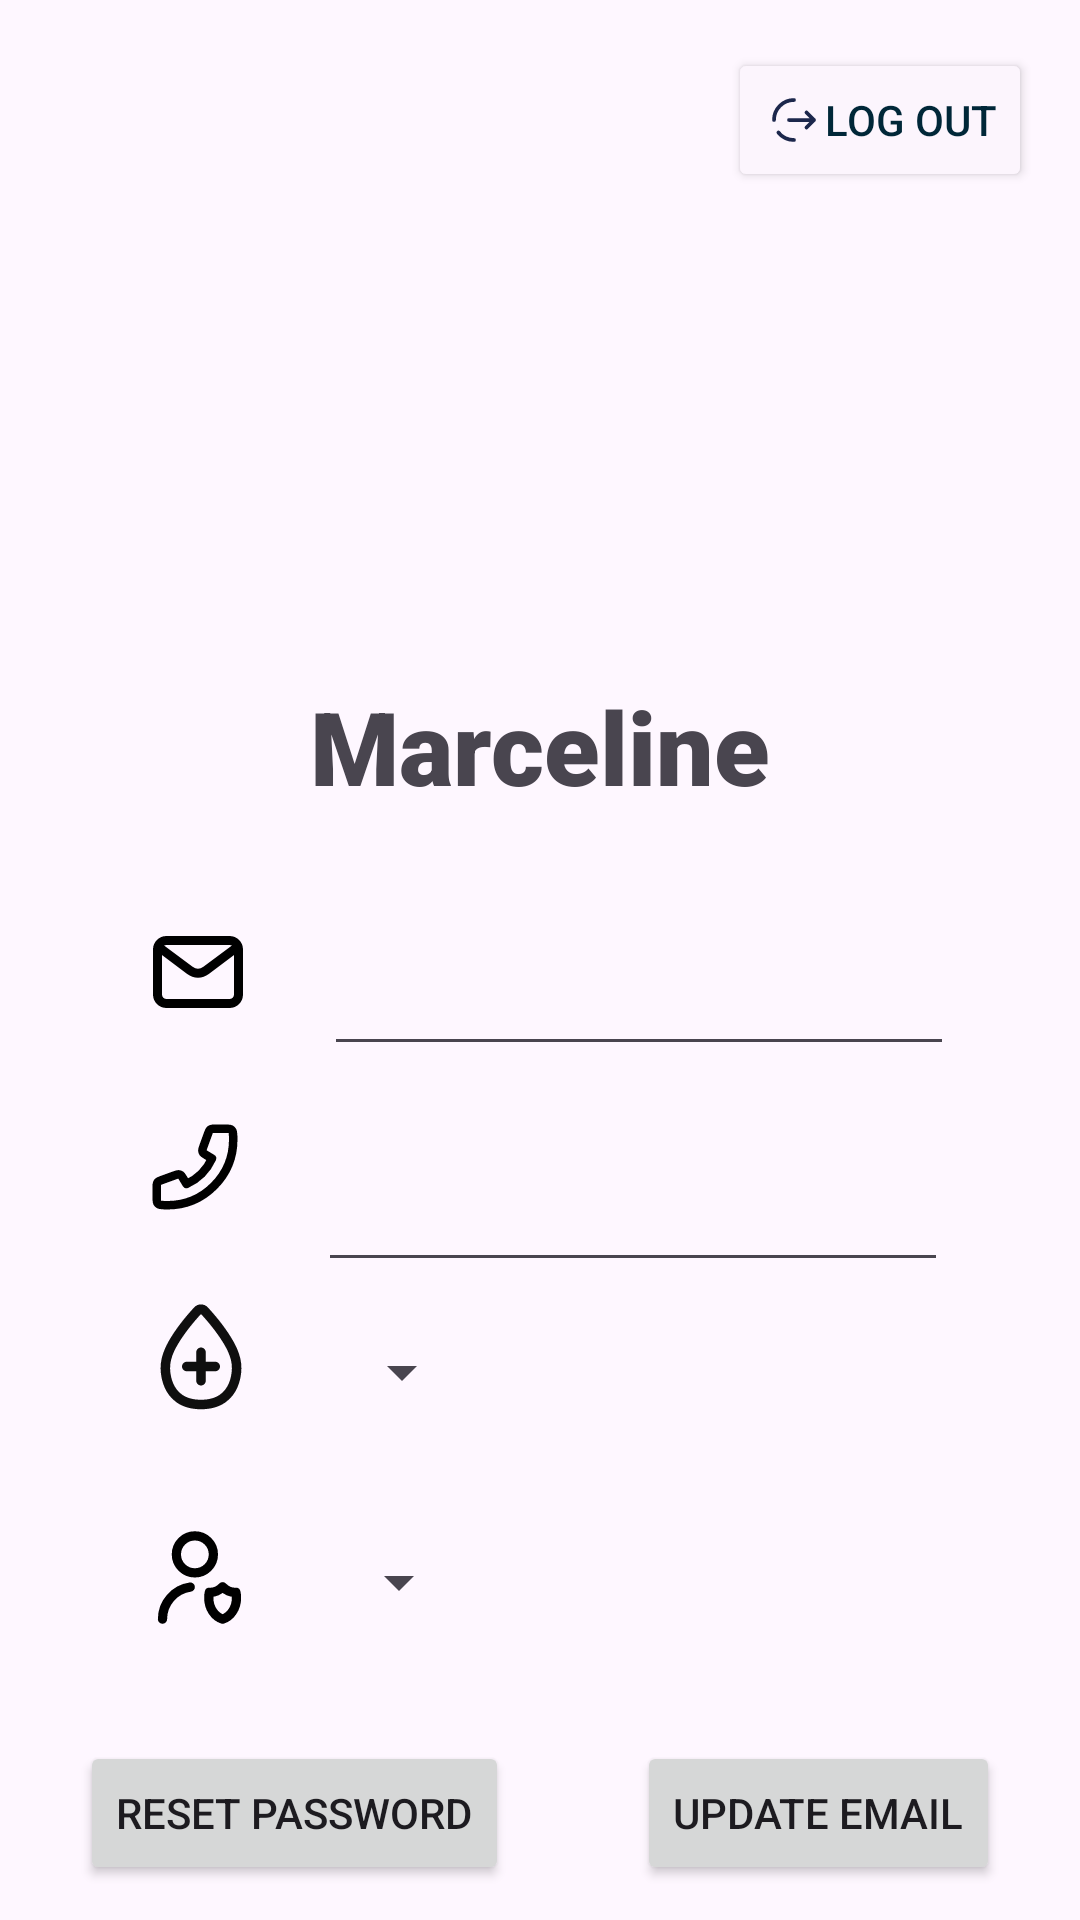

Where icons sit on this 1080 × 1920 app screen, as (x1, y1, x2, y2):
blood type: (160, 1304, 242, 1410)
email: (153, 936, 243, 1008)
phone flip: (152, 1124, 238, 1210)
user shield: (158, 1531, 241, 1624)
